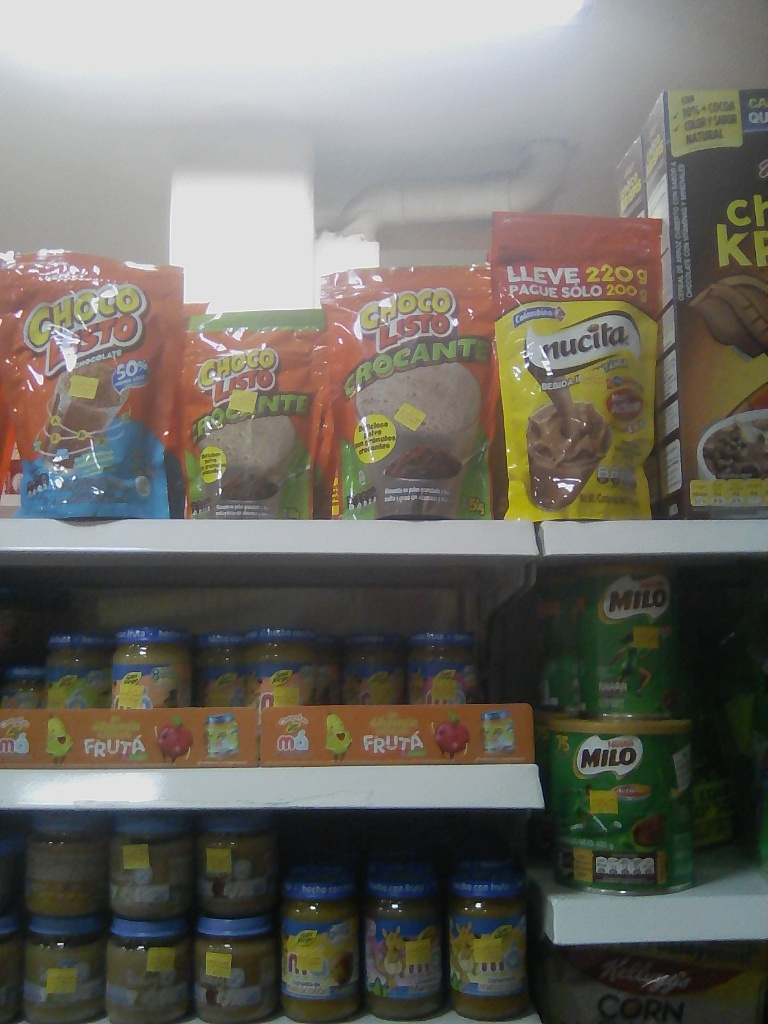COL0170102DYP10000: (175, 308, 328, 517)
COL0170102DYP25000: (320, 267, 505, 519)
COL0170104DYP20000: (0, 247, 179, 519)
COL0170203LAT20000: (567, 562, 688, 719)
COL0170203LAT40000: (550, 708, 698, 894)
